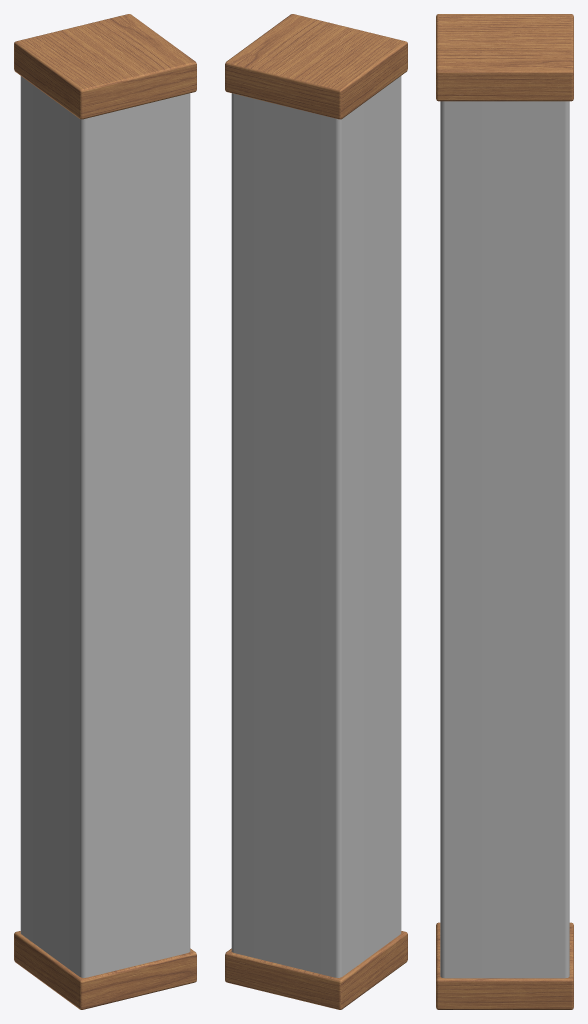
Rendered from SM_wall_pillar_01.fbx.
3 renders of one model, left to right at view 1: azimuth 30°, elevation 25°; view 2: azimuth 150°, elevation 25°; view 3: azimuth 270°, elevation 25°, orthographic. The views are drawn at different scales.
Parts seen in each view (by area): view 1: pillar_01; view 2: pillar_01; view 3: pillar_01.
Part boxes in pixels (bbox=[...]): pillar_01: bbox=[14, 14, 196, 1009]; pillar_01: bbox=[225, 14, 407, 1009]; pillar_01: bbox=[436, 14, 573, 1009].
Size of the model in its own units: 20.94 by 157 by 20.94.
